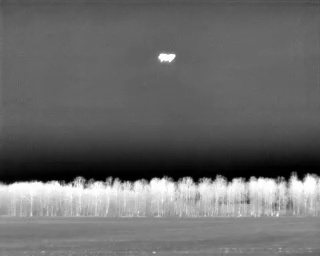DRONE: (154, 48, 179, 68)
